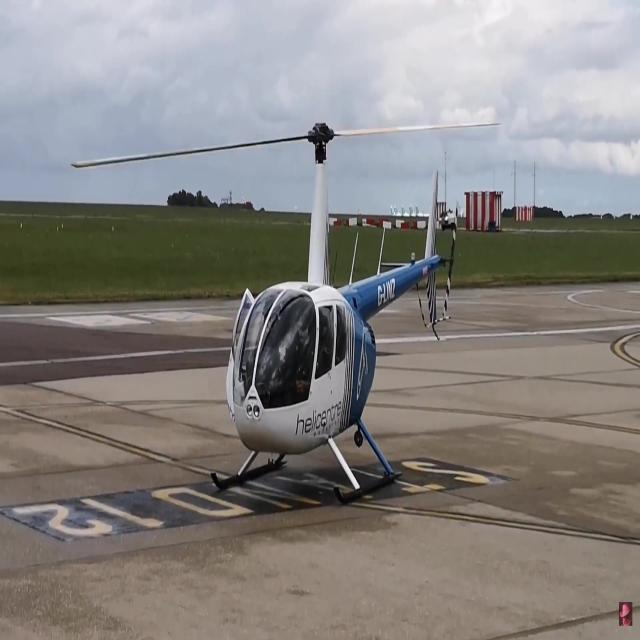CIV_HELO: (208, 117, 452, 509)
